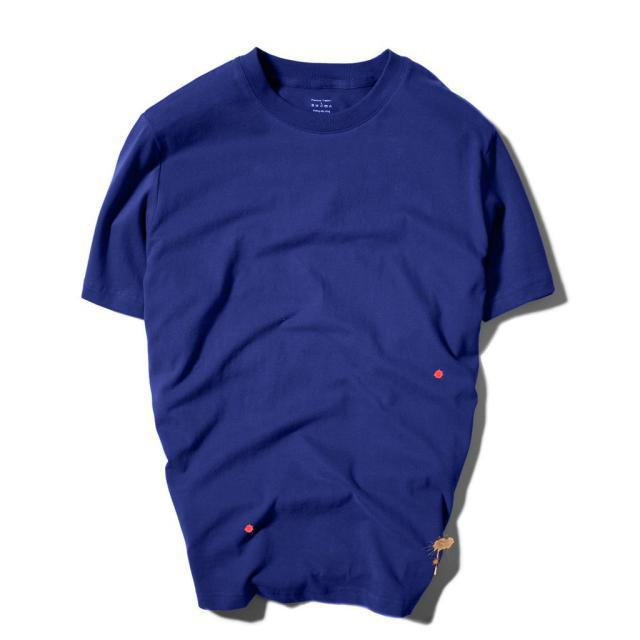stain: (430, 531, 455, 578), (426, 358, 455, 389), (237, 519, 265, 546)
